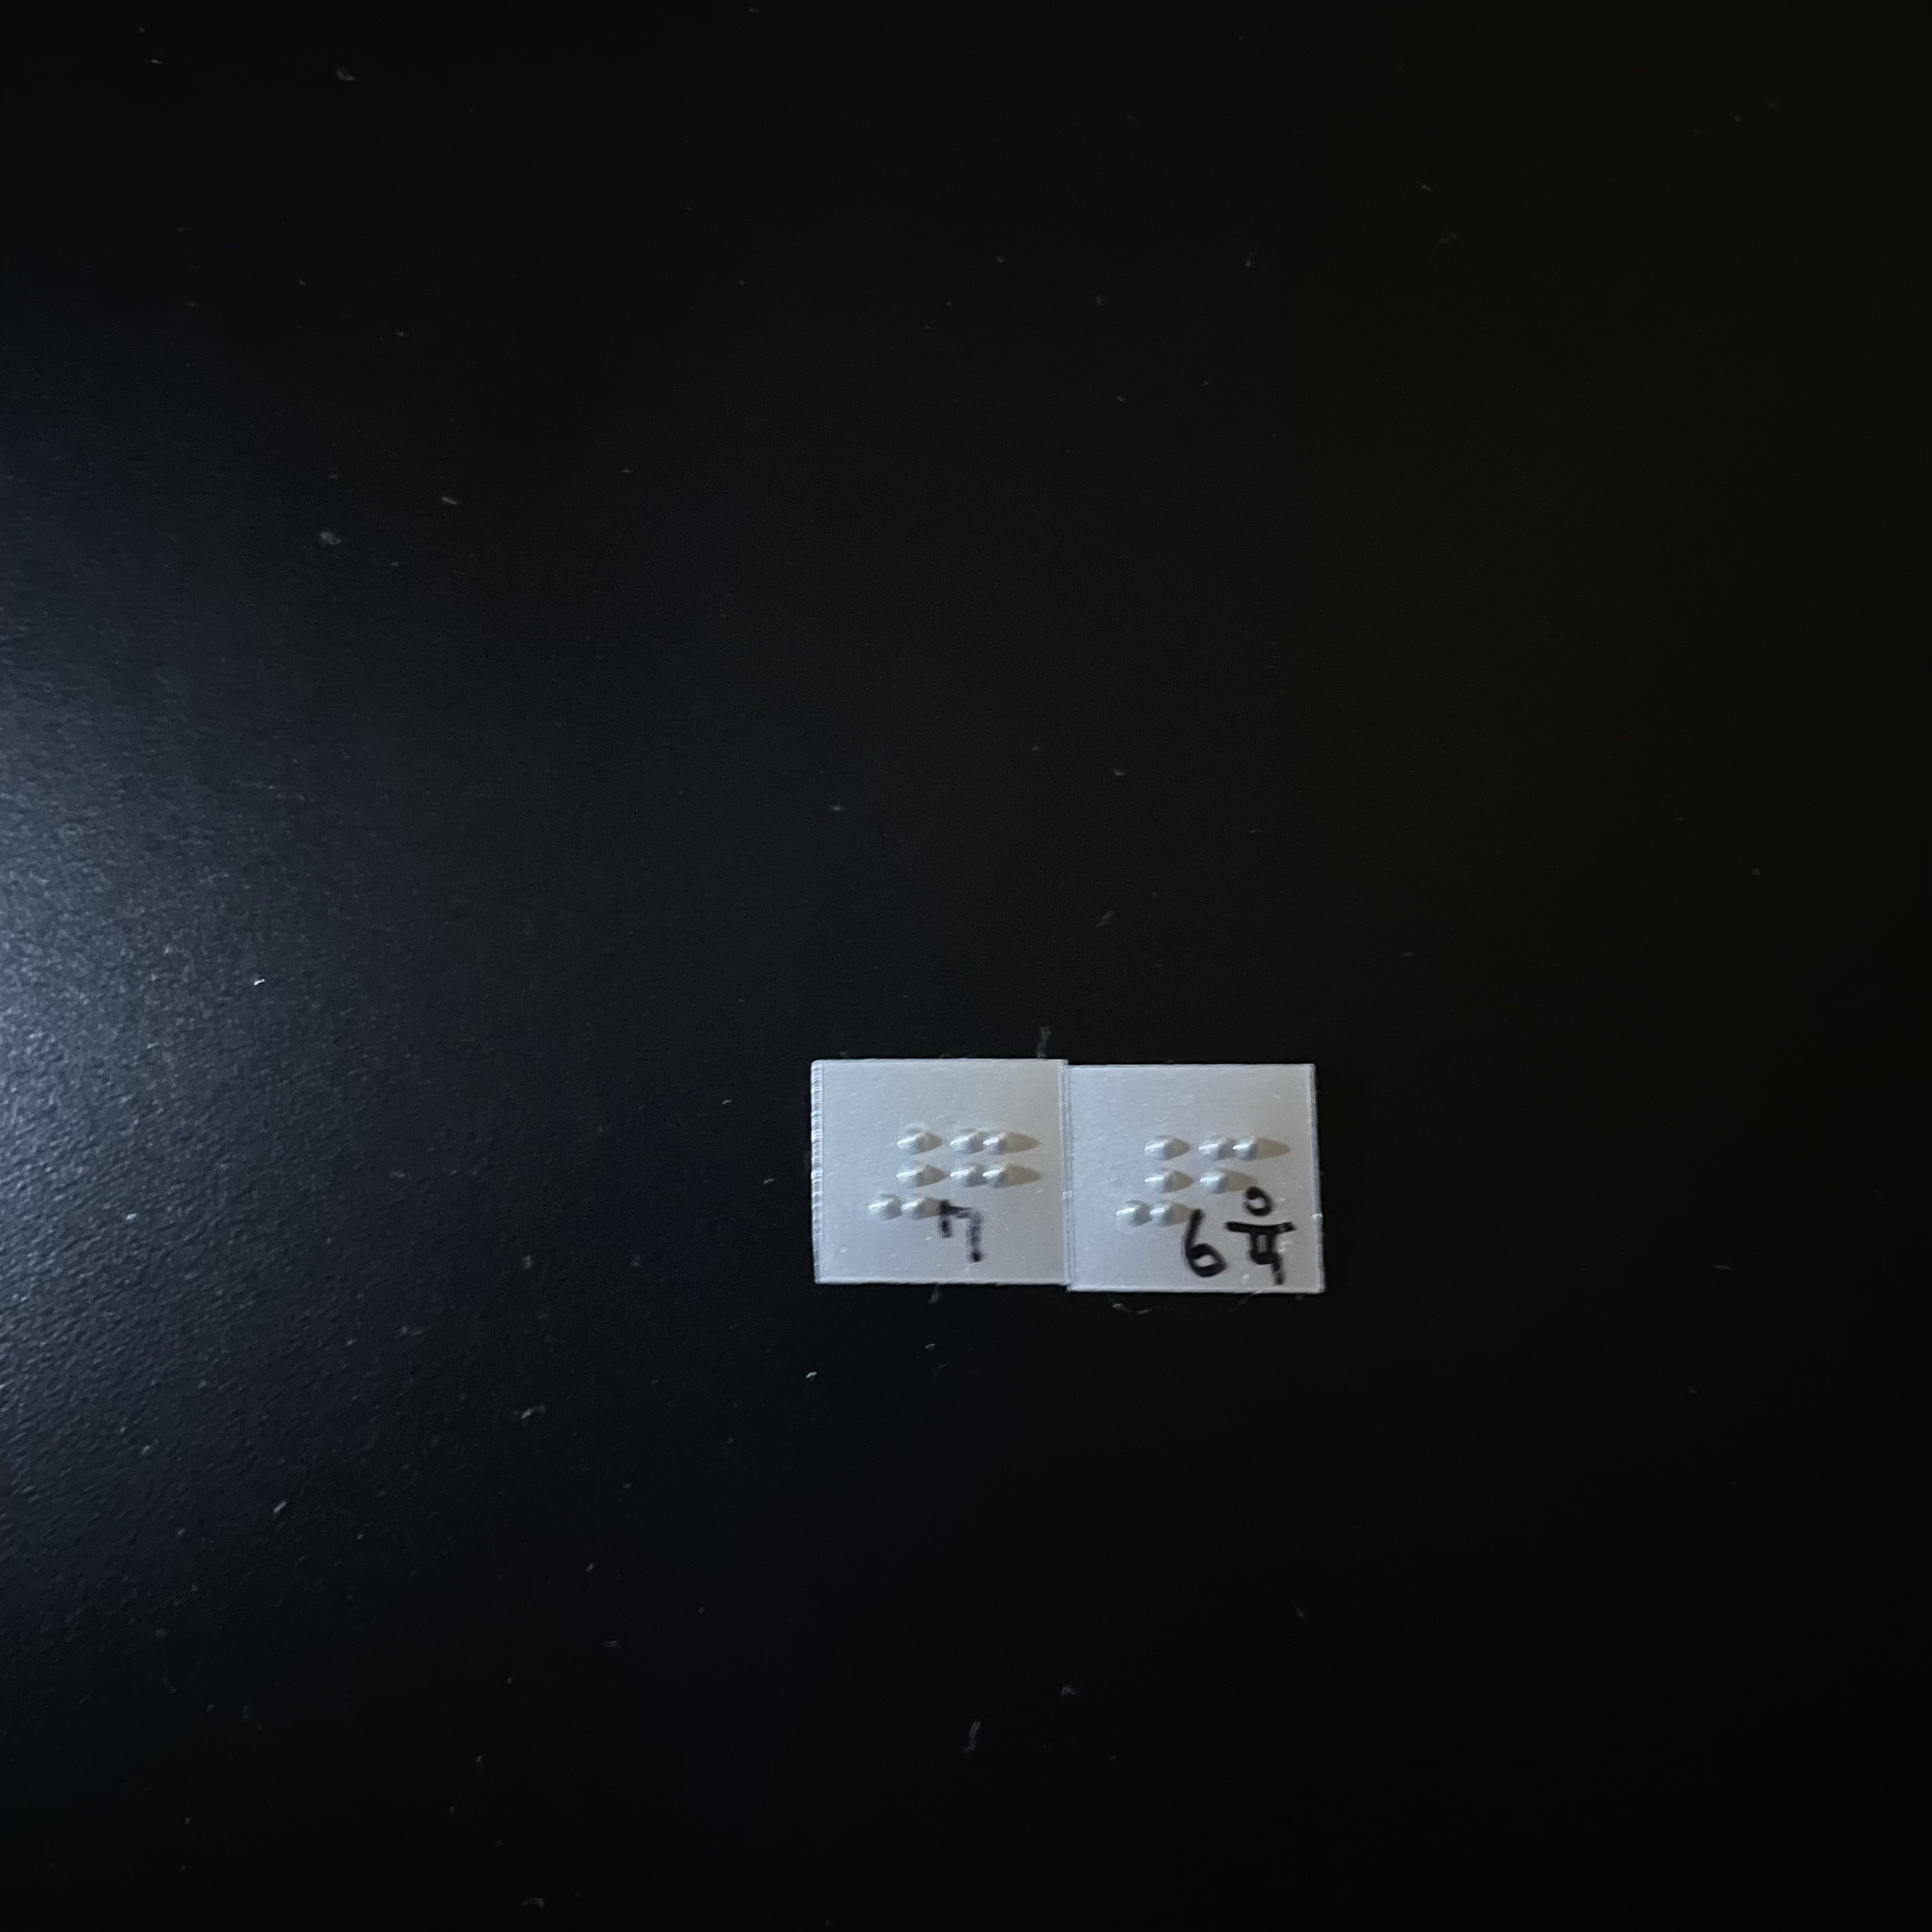#: (1113, 1130, 1201, 1234), (862, 1130, 954, 1227)
f: (1199, 1130, 1278, 1238)
g: (950, 1132, 1029, 1234)
